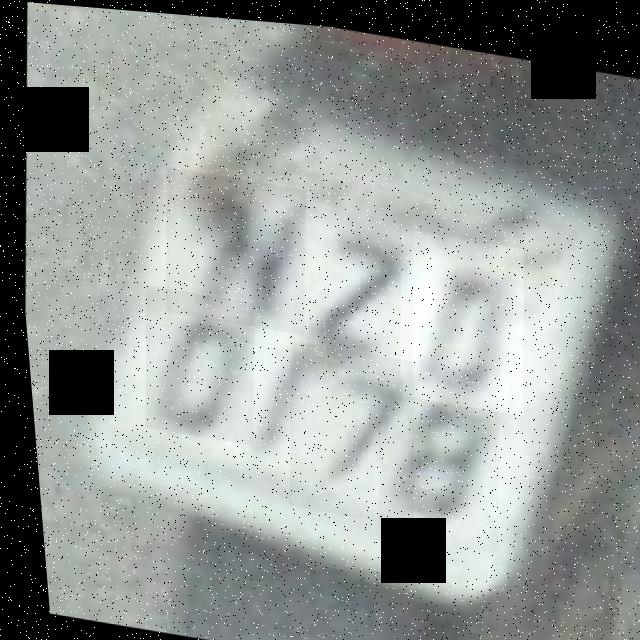0: (128, 282, 258, 442)
7: (270, 335, 419, 521)
8: (358, 360, 504, 547)
D: (385, 221, 531, 408)
N: (151, 163, 313, 331)
Z: (278, 197, 421, 376)
